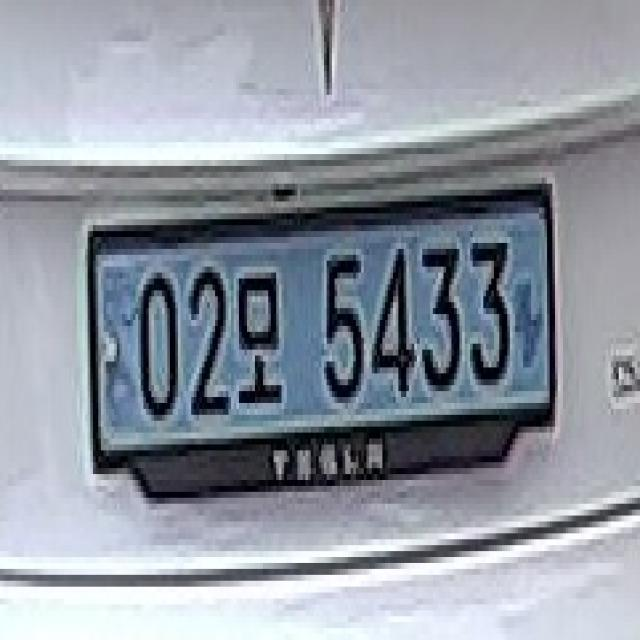0: (133, 263, 183, 437)
2: (185, 256, 233, 431)
3: (468, 234, 514, 392), (420, 240, 464, 392)
4: (370, 239, 420, 402)
5: (318, 245, 368, 402)
license_plate: (83, 165, 569, 518)
mo: (234, 259, 290, 406)
